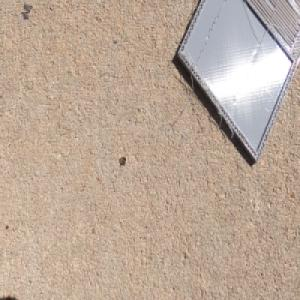PlasticPart: (176, 0, 300, 164)
